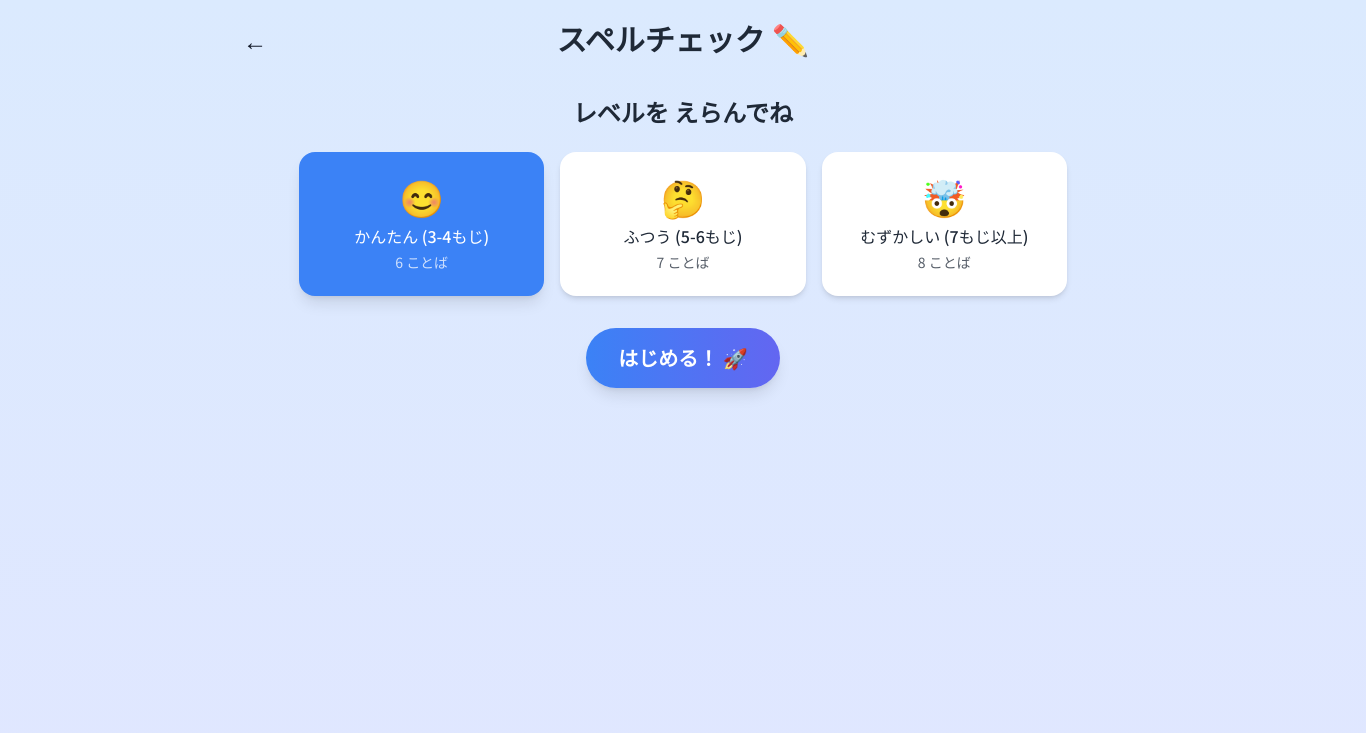
Test: SpellingGamePage › can return to difficulty selection
Click the button "はじめる！ 🚀". click: point(683, 358)
box: [586, 328, 780, 388]
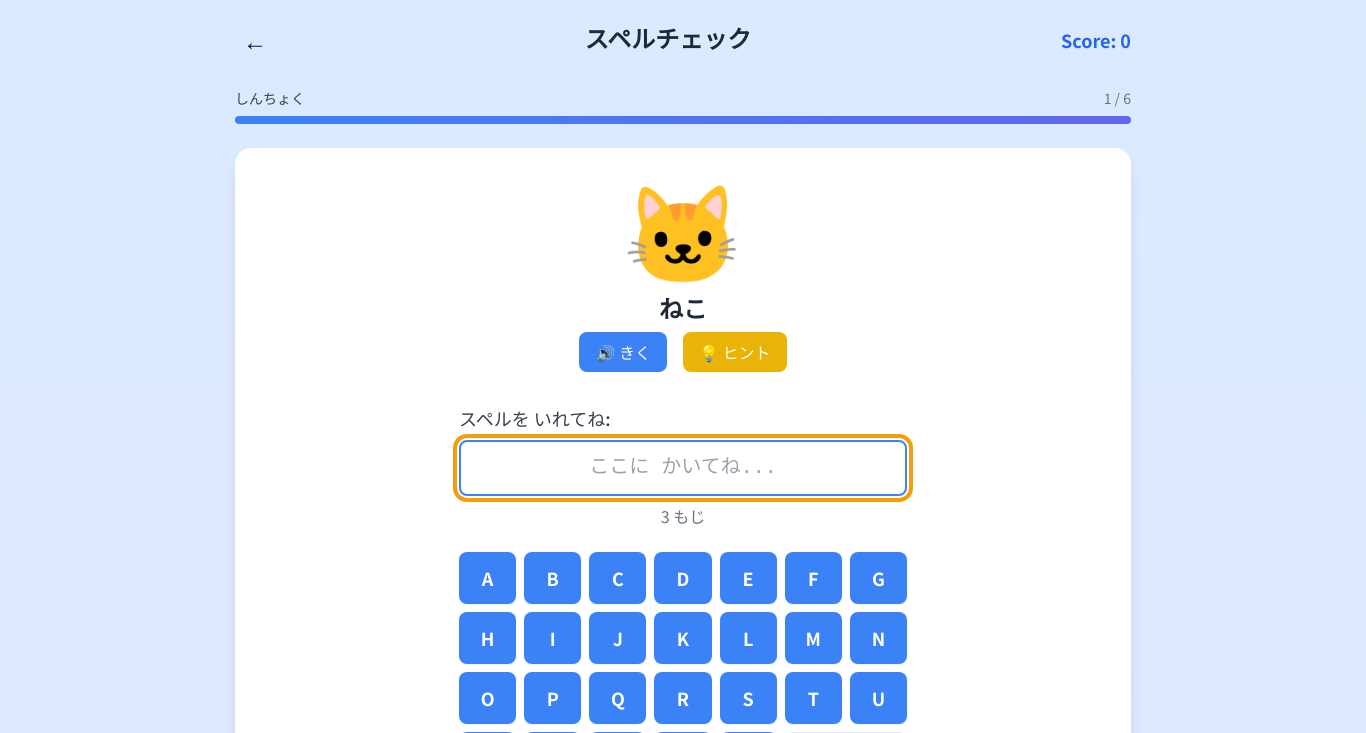
Click the button named "Back to menu". click: point(255, 40)
box: [235, 16, 275, 64]
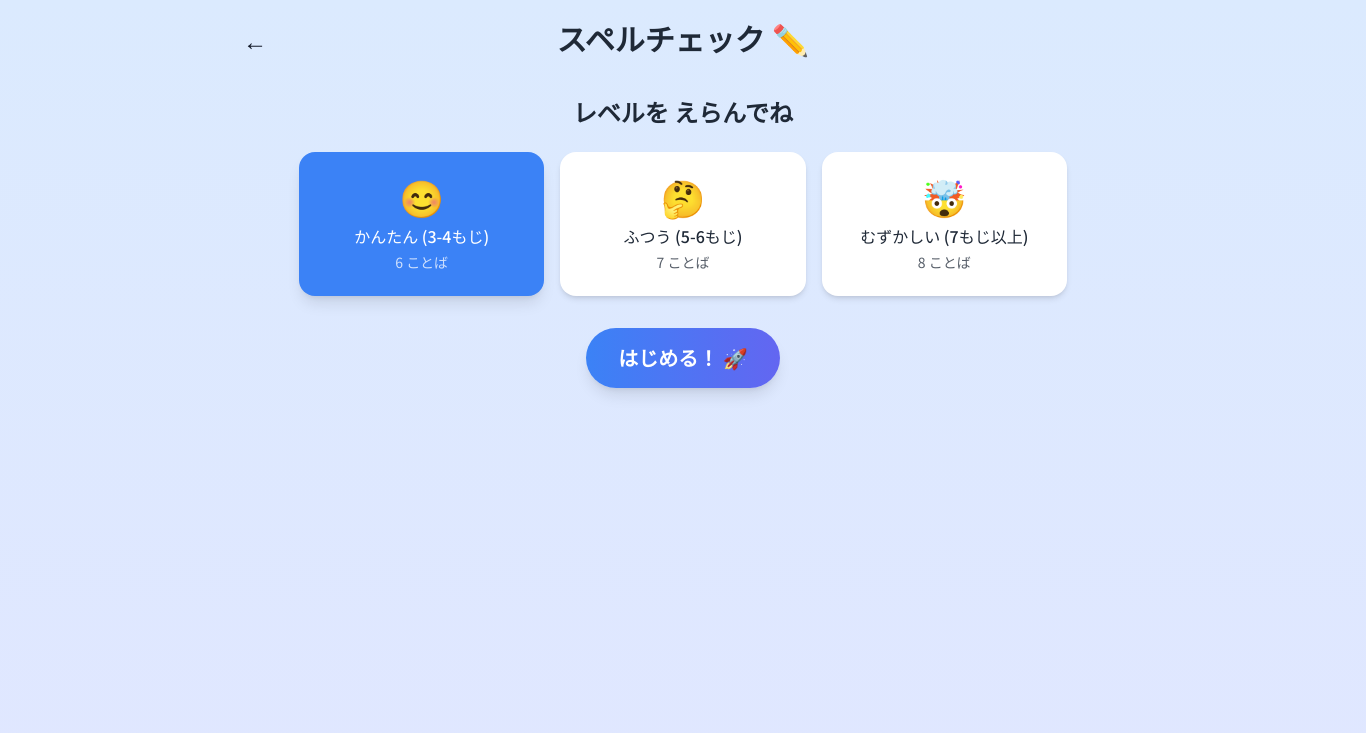
Expected: the heading "レベルを えらんでね" is shown, [573, 94, 793, 129]
